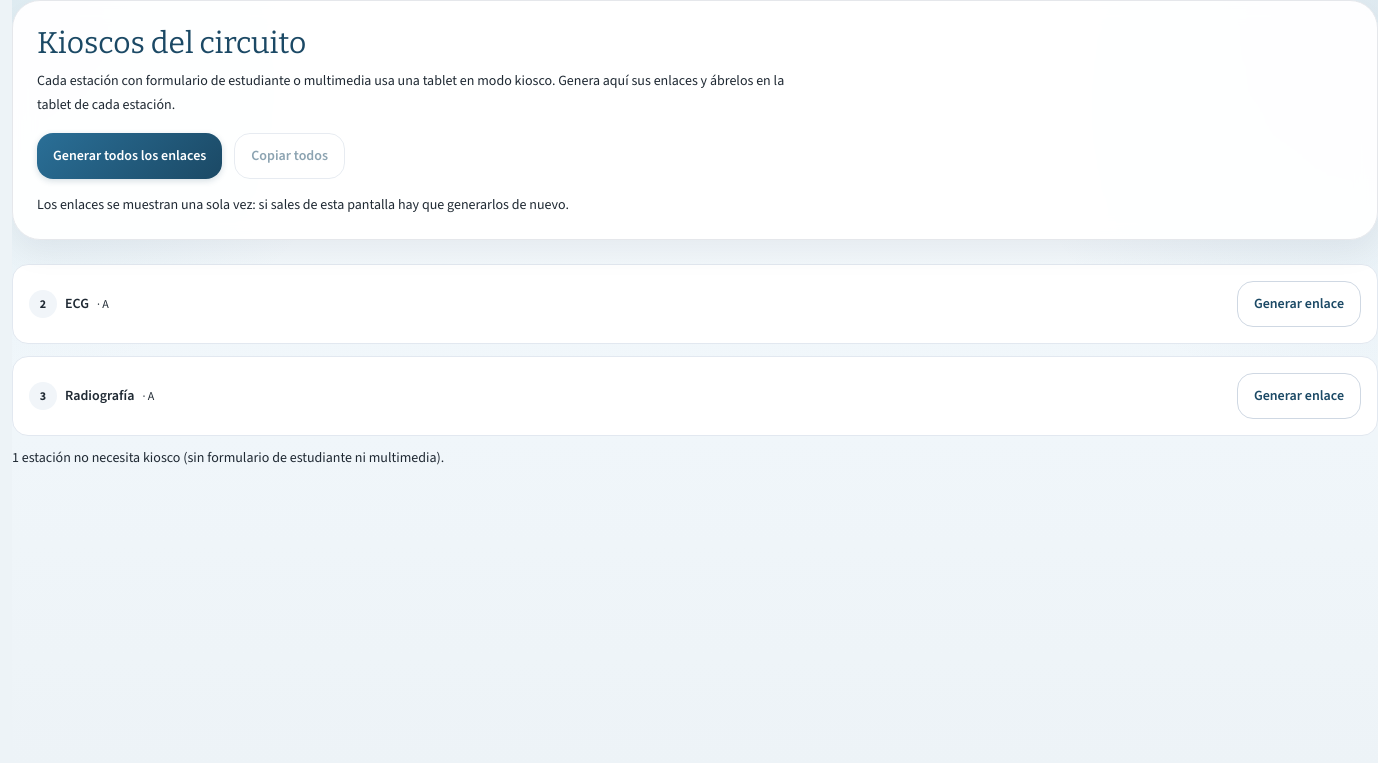
Test: Kioscos › genera todos los enlaces de una vez y los muestra por estación
The image size is (1378, 763).
Expected: the text "ECG" is shown, [65, 294, 89, 314]
Click the button "Generar todos los enlaces".
click(130, 156)  # box [37, 133, 222, 179]
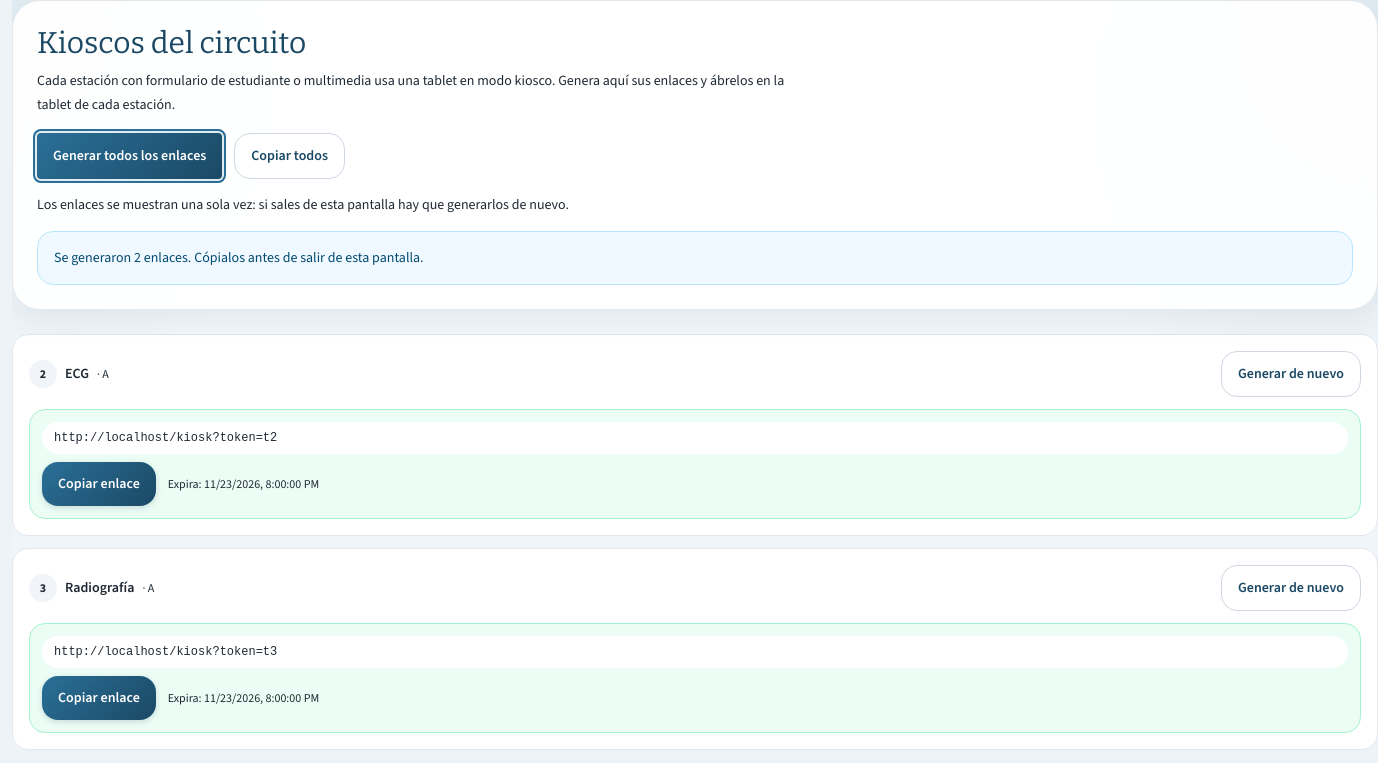
Expected: the text "http://localhost/kiosk?token=t2" is shown, [42, 422, 1348, 454]
Expected: the text "http://localhost/kiosk?token=t3" is shown, [42, 636, 1348, 668]
Expected: the text "Se generaron 2 enlaces. Cópialos antes de salir de esta pantalla." is shown, [37, 231, 1353, 285]
